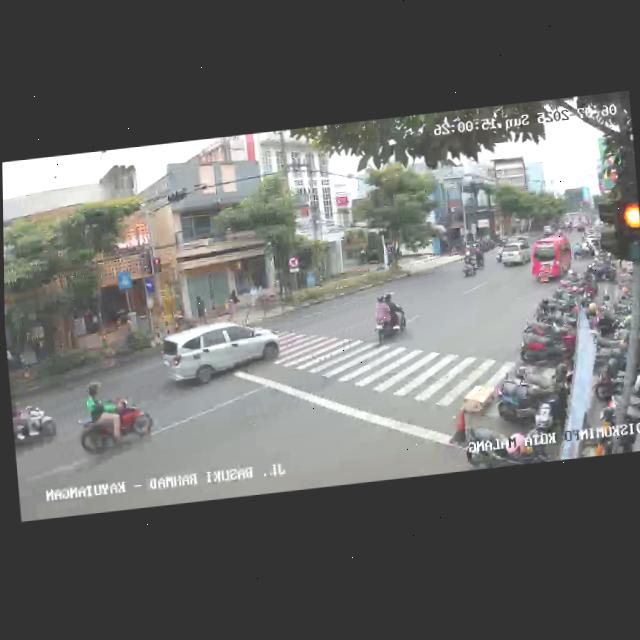car: (162, 312, 280, 394), (528, 234, 574, 286), (495, 240, 532, 270)
motorcycle: (72, 386, 153, 461), (11, 393, 60, 453), (370, 292, 408, 345), (460, 250, 477, 278)
